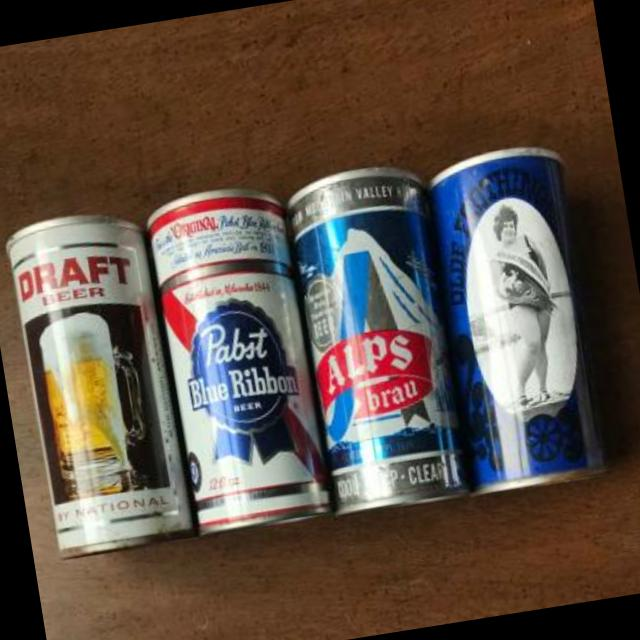metal: (4, 214, 188, 553), (289, 168, 469, 512), (148, 190, 327, 531), (429, 147, 603, 488)
